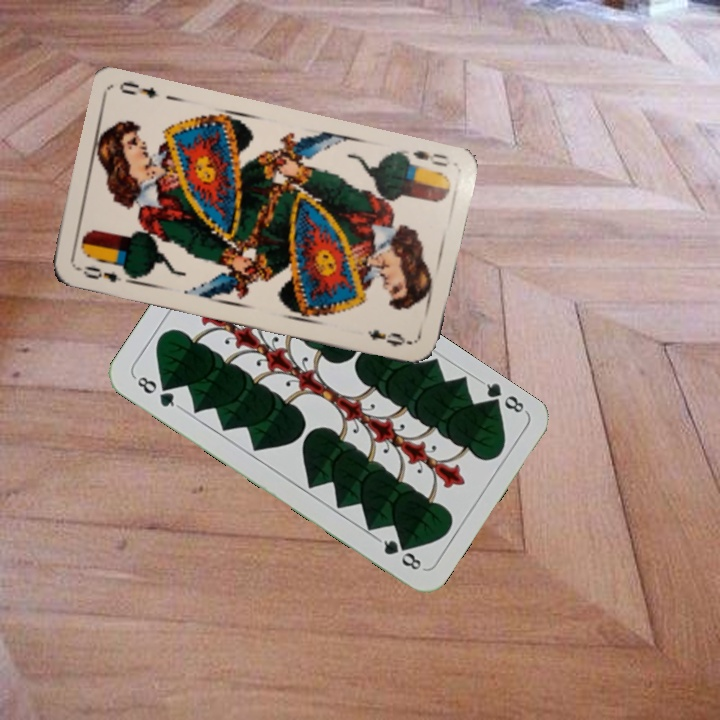EO: (73, 261, 124, 285), (408, 146, 452, 170)
G8: (130, 371, 183, 411), (477, 376, 529, 416)
